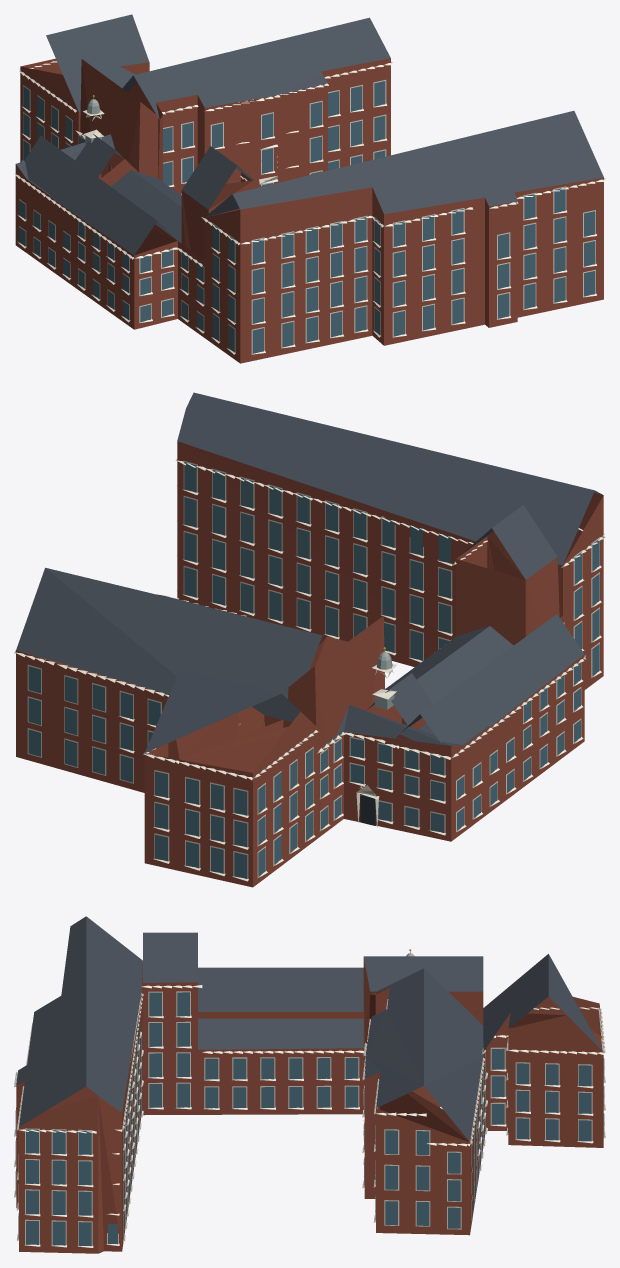
File: sint-jorishof.lod1.glb
3 views of the same model, one above another, from view 1: azimuth 30°, elevation 25°; view 2: azimuth 150°, elevation 25°; view 3: azimuth 270°, elevation 25° (orthographic). The views are drawn at different scales.
Parts seen in each view (by area): view 1: sint-jorishof; view 2: sint-jorishof; view 3: sint-jorishof.
Boxes of the visible parts, x1,y1,x2,y2 form: sint-jorishof: (15, 14, 605, 363); sint-jorishof: (14, 392, 605, 887); sint-jorishof: (14, 916, 605, 1253).
Bounding box in the file's own units: 50.41 × 20.05 × 64.35.
